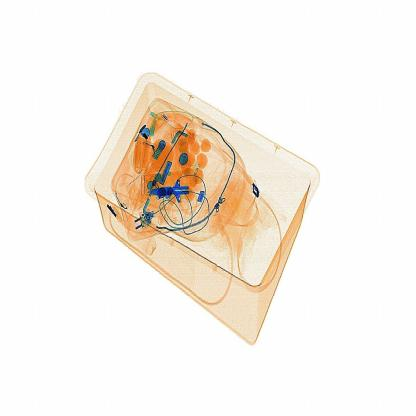gun: (145, 163, 217, 219)
